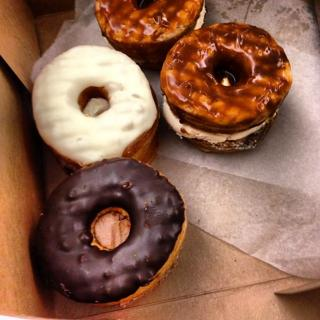Doughnut: (33, 158, 188, 306), (158, 20, 293, 150), (30, 45, 160, 170), (30, 44, 159, 160), (94, 0, 207, 63)
